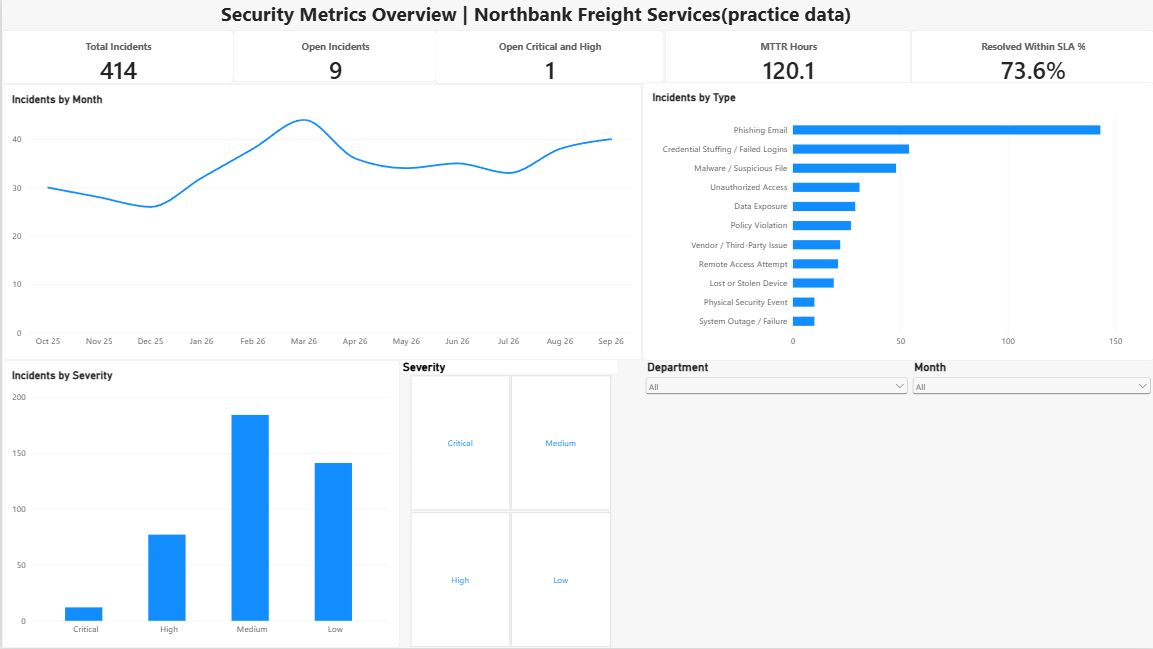

What the dashboard file says about the page in this screenshot:
{"tool":"powerbi","page":{"name":"Overview","canvas":[1920,1080],"ordinal":0},"visuals":[{"type":"cardVisual","fields":{"Data":["security_incidents.Total Incidents"]},"box":[0,50,386,90],"z":0},{"type":"cardVisual","fields":{"Data":["security_incidents.Open Incidents"]},"box":[386,50,340,86],"z":1000},{"type":"cardVisual","fields":{"Data":["security_incidents.Open Critical and High"]},"box":[723.3,50,380,90],"z":2000},{"type":"cardVisual","fields":{"Data":["security_incidents.MTTR Hours"]},"box":[1104,50,410,94],"z":3000},{"type":"cardVisual","fields":{"Data":["security_incidents.Resolved Within SLA %"]},"box":[1514,50,406,94],"z":4000},{"type":"lineChart","title":"Incidents by Month","fields":{"Category":["Calendar.Month"],"Y":["security_incidents.Total Incidents"]},"box":[0,140,1066.7,460],"z":5000},{"type":"clusteredBarChart","title":"Incidents by Type","fields":{"Category":["security_incidents.incident_type"],"Y":["security_incidents.Total Incidents"]},"box":[1066.7,136.7,853.3,463.3],"z":6000},{"type":"clusteredColumnChart","title":"Incidents by Severity","fields":{"Category":["sla_targets.severity"],"Y":["security_incidents.Total Incidents"]},"box":[0,600,663.3,480],"z":7000},{"type":"slicer","fields":{"Values":["sla_targets.severity"]},"box":[660,600,373.3,480],"z":8000},{"type":"slicer","fields":{"Values":["security_incidents.department"]},"box":[1066.7,600,446.7,480],"z":9000},{"type":"slicer","fields":{"Values":["Calendar.Month"]},"box":[1513.3,600,406.7,480],"z":10000},{"type":"textbox","box":[0,0,1790,53.3],"z":11000}]}

Visuals, with their boxes in screenshot pixels (x1, y1, x2, y2), scaled from the page's 1920x1080 canvas onto the 1153x649 screenshot:
cardVisual - security_incidents.Total Incidents: (0, 30, 232, 84)
cardVisual - security_incidents.Open Incidents: (232, 30, 436, 82)
cardVisual - security_incidents.Open Critical and High: (434, 30, 663, 84)
cardVisual - security_incidents.MTTR Hours: (663, 30, 909, 87)
cardVisual - security_incidents.Resolved Within SLA %: (909, 30, 1152, 87)
"Incidents by Month" lineChart: (0, 84, 641, 361)
"Incidents by Type" clusteredBarChart: (641, 82, 1152, 361)
"Incidents by Severity" clusteredColumnChart: (0, 361, 398, 648)
slicer - sla_targets.severity: (396, 361, 621, 648)
slicer - security_incidents.department: (641, 361, 909, 648)
slicer - Calendar.Month: (909, 361, 1152, 648)
textbox: (0, 0, 1075, 32)
